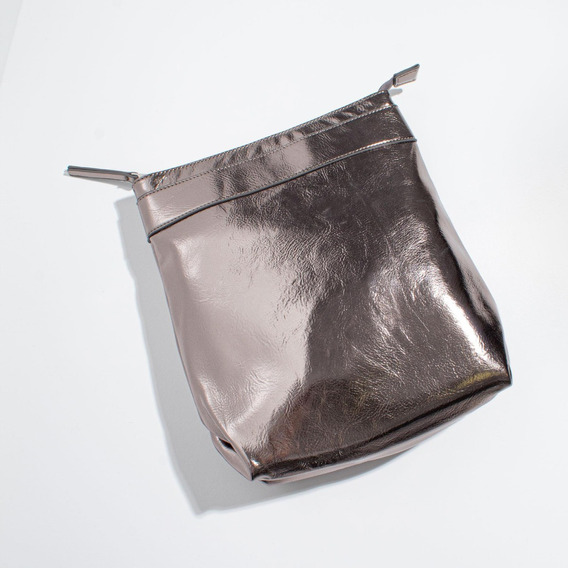cartera: (66, 63, 515, 486)
